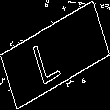L_NW: (38, 26, 72, 84)
